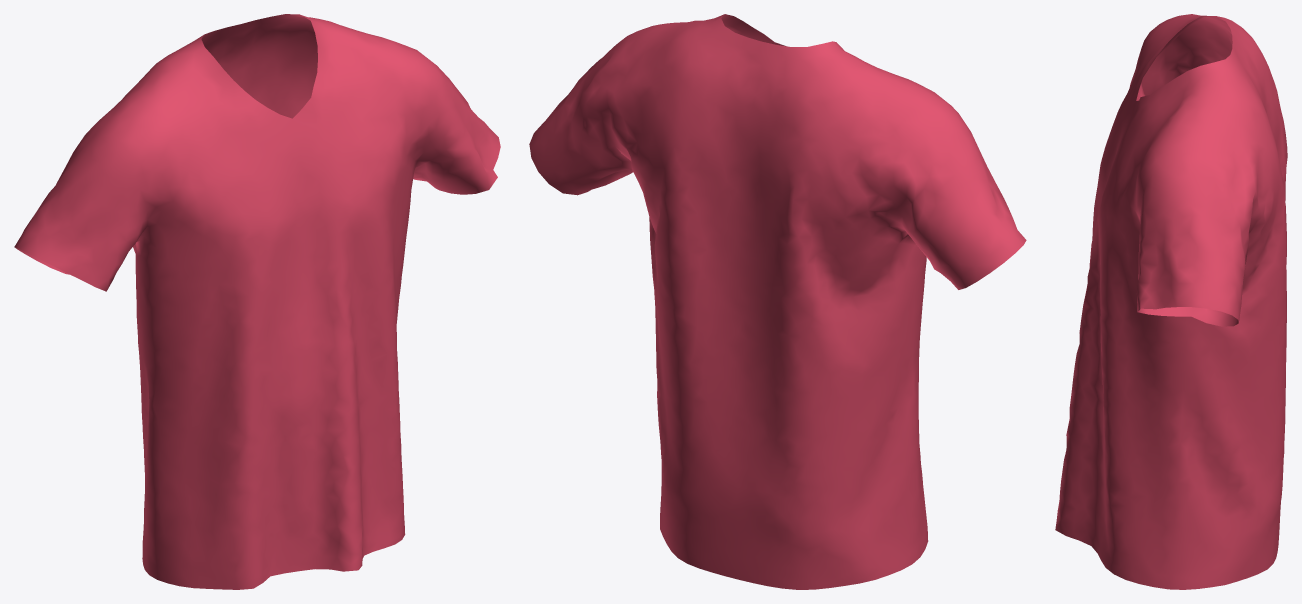
File: tshirt.glb
3 views of the same model, side by side, from view 1: azimuth 30°, elevation 25°; view 2: azimuth 150°, elevation 25°; view 3: azimuth 270°, elevation 25° (orthographic). The views are drawn at different scales.
Parts seen in each view (by area): view 1: Cloth; view 2: Cloth; view 3: Cloth.
Boxes of the visible parts, left/top/right/bottom form: Cloth: left=14, top=14, right=500, bottom=589; Cloth: left=529, top=14, right=1026, bottom=589; Cloth: left=1055, top=14, right=1287, bottom=589.
Size of the model in its own units: 0.6757 by 0.701 by 0.2947.
